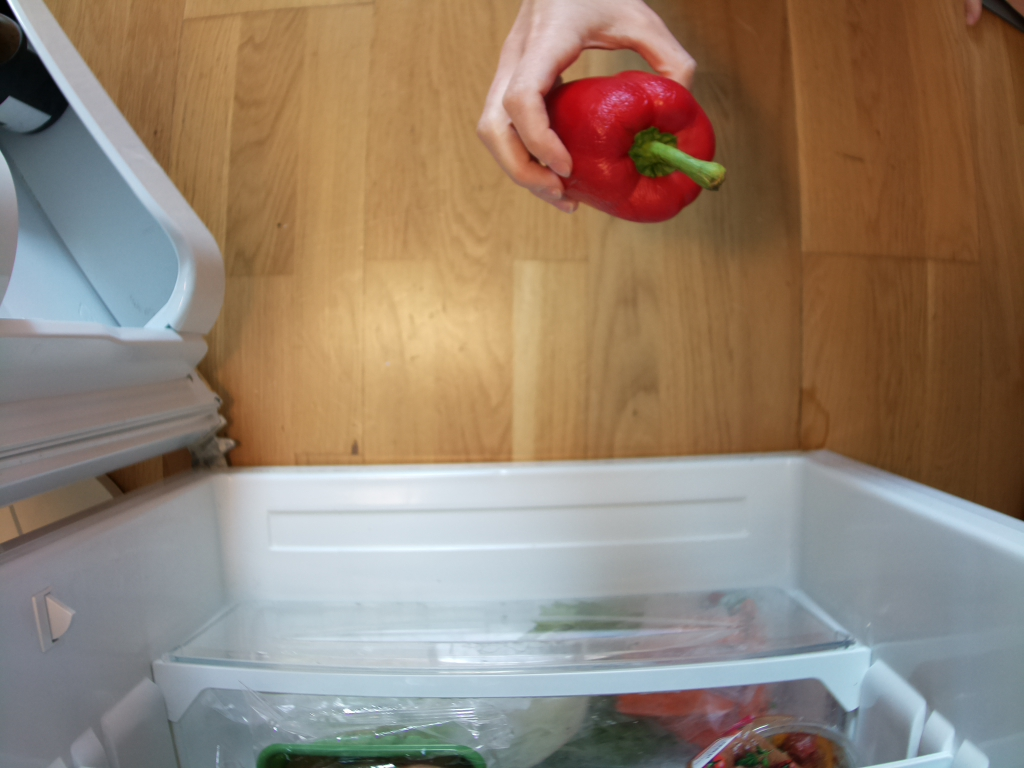pepper-bad: (539, 70, 732, 228)
